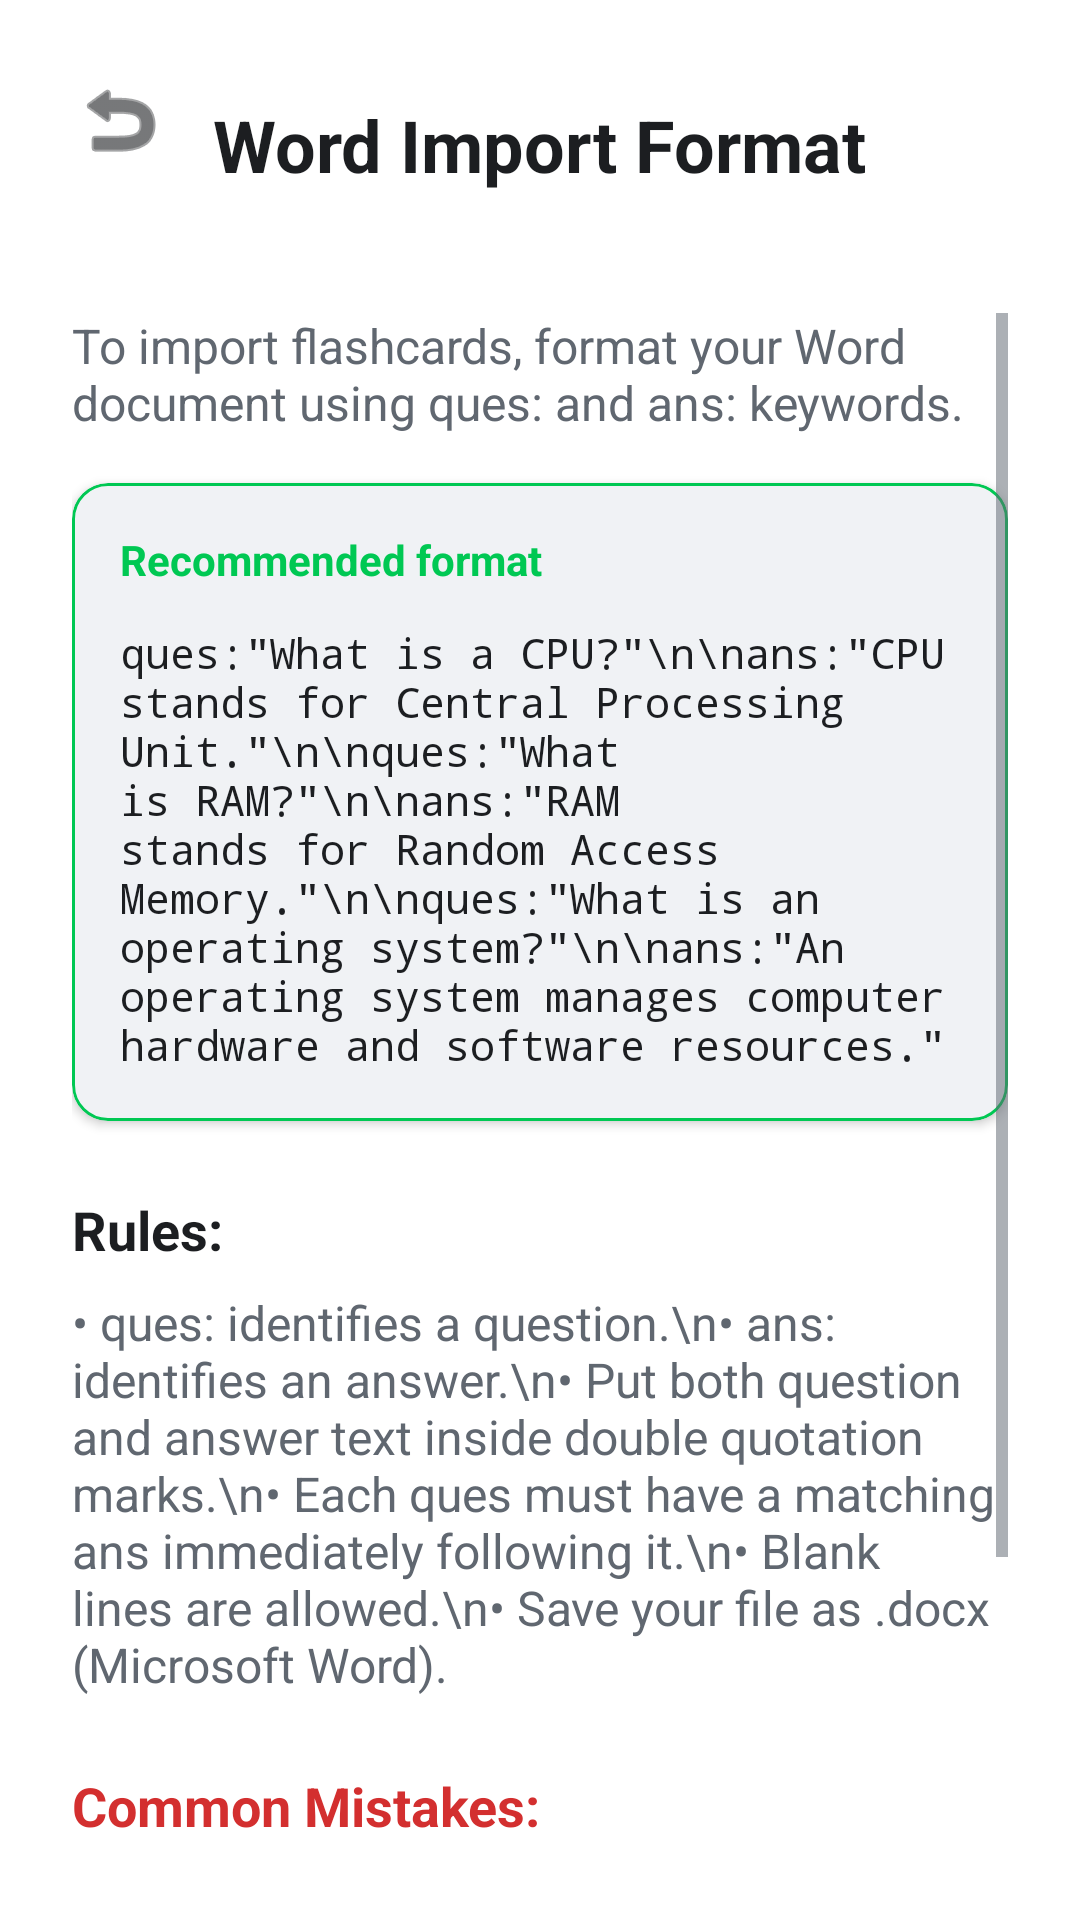

Icons on this 1080 x 1920 Android screen, each with the point to tap as [x,y]:
Go back: [121,120]
